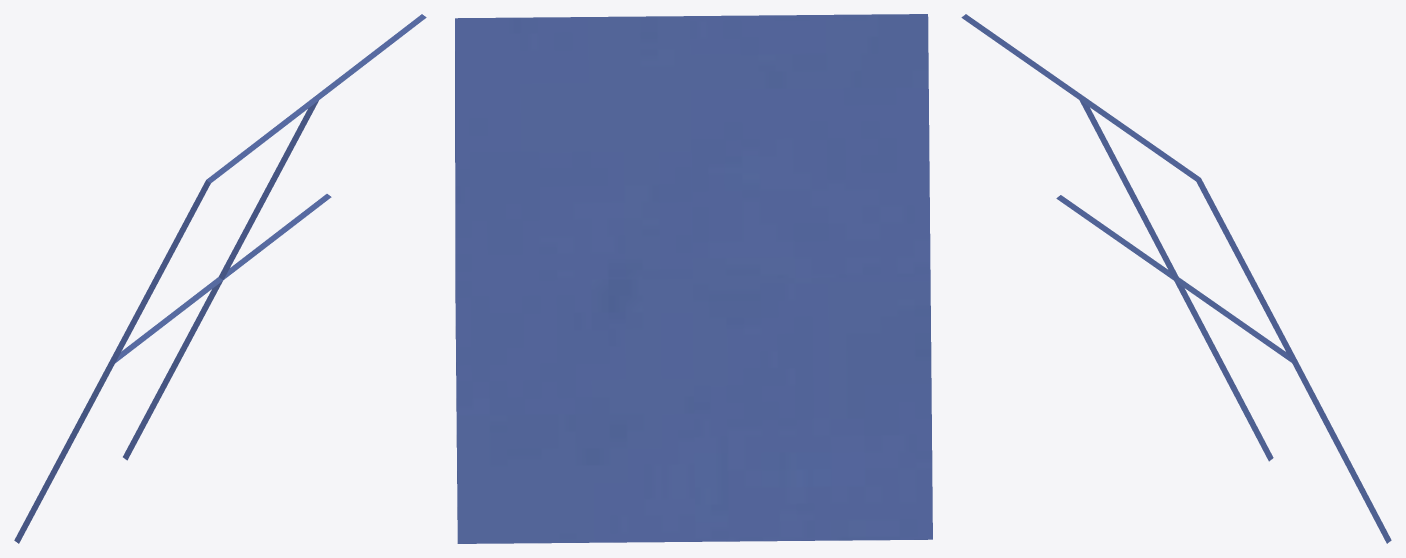
3 renders of one model, left to right at view 1: azimuth 30°, elevation 25°; view 2: azimuth 150°, elevation 25°; view 3: azimuth 270°, elevation 25°, orthographic. The views are drawn at different scales.
Bounding box in the file's own units: 19671 × 17712 × 16743.
Materials: 1 (1 with a texture image).
